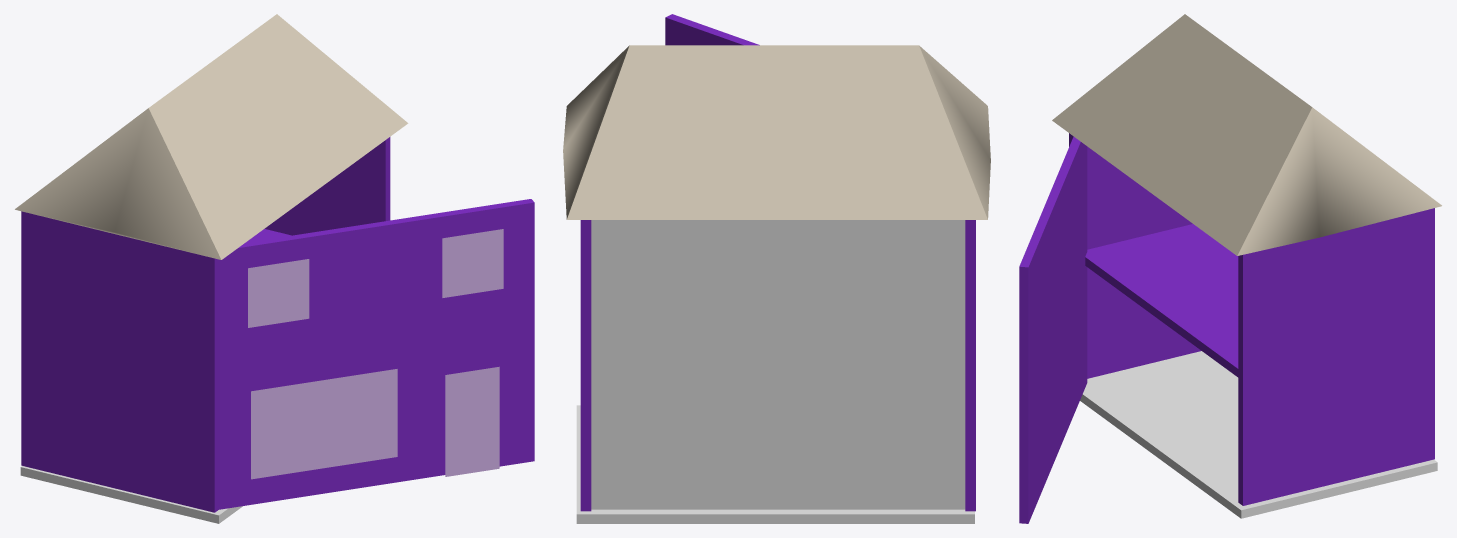
The model's file is Dolls House.fbx.
The picture shows the model from 3 angles, left to right: view 1: azimuth 30°, elevation 25°; view 2: azimuth 150°, elevation 25°; view 3: azimuth 270°, elevation 25°; orthographic projection. The views are drawn at different scales.
Parts seen in each view (by area): view 1: FrontWallHouse, SideWallHouse002, RoofHouse, BigWindowDolll, SideWallHouse, DoorDollHouse, WeeWindowHouse, WeeWindowHouse002, DollsHouseBase; view 2: BackWallHouse, RoofHouse, DollsHouseBase, SideWallHouse, SideWallHouse002, FrontWallHouse; view 3: SideWallHouse, RoofHouse, FrontWallHouse, DollsHouseBase, DollsHouseFloor, SideWallHouse002.
Boxes of the visible parts, x1,y1,x2,y2 form: FrontWallHouse: (219, 199, 534, 509); SideWallHouse002: (21, 211, 219, 512); RoofHouse: (15, 14, 408, 259); BigWindowDolll: (251, 369, 397, 479); SideWallHouse: (264, 137, 390, 235); DoorDollHouse: (445, 366, 499, 476); WeeWindowHouse: (248, 259, 309, 327); WeeWindowHouse002: (442, 229, 503, 297); DollsHouseBase: (20, 466, 242, 523); BackWallHouse: (591, 220, 965, 509); RoofHouse: (563, 45, 990, 219); DollsHouseBase: (576, 405, 974, 523); SideWallHouse: (580, 220, 591, 511); SideWallHouse002: (965, 220, 975, 511); FrontWallHouse: (665, 14, 759, 45); SideWallHouse: (1238, 208, 1434, 505); RoofHouse: (1052, 14, 1441, 255); FrontWallHouse: (1019, 136, 1087, 523); DollsHouseBase: (1080, 351, 1437, 518); DollsHouseFloor: (1085, 224, 1238, 377); SideWallHouse002: (1069, 133, 1201, 378).
Bounding box in the file's own units: 50.25 × 44.78 × 46.26.
